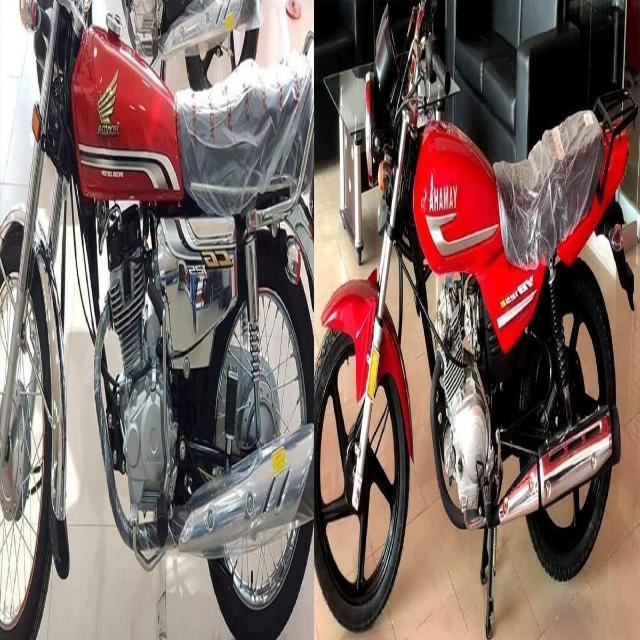motorcycle: (305, 5, 635, 637), (3, 7, 305, 629)
